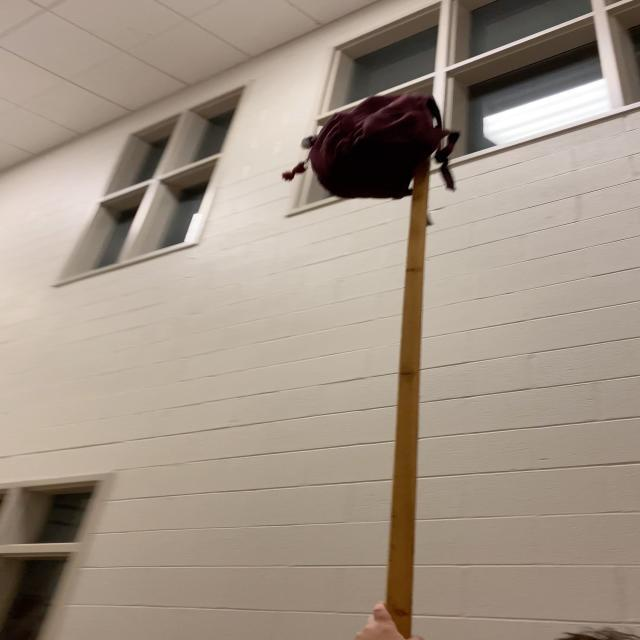Backpacks: (304, 90, 440, 202)
